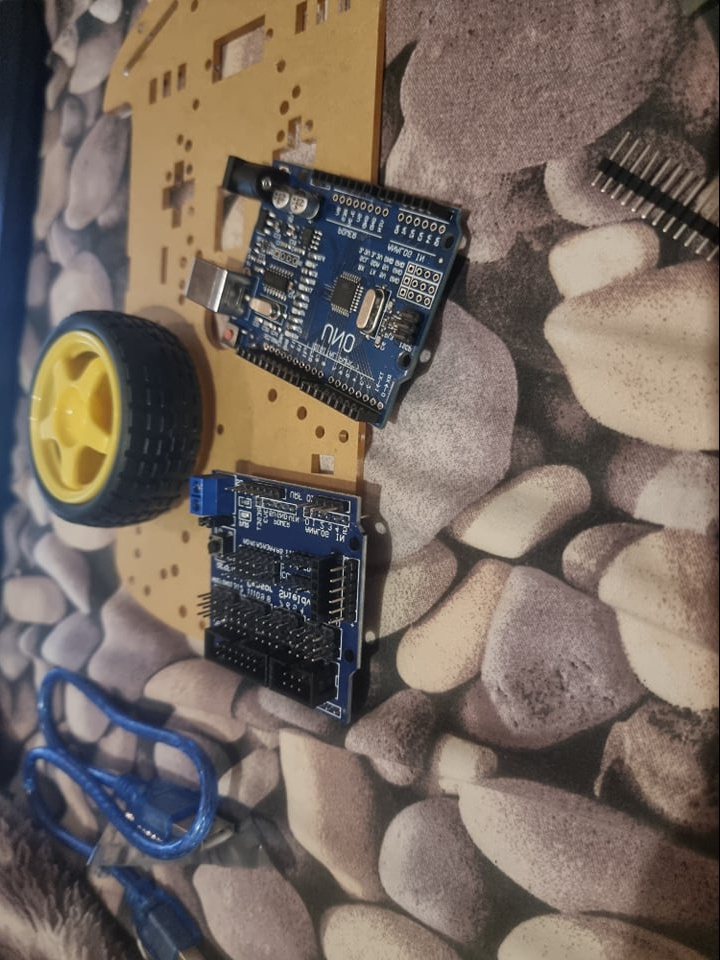5V EXPANSION: (187, 471, 366, 722)
UNO R3: (187, 152, 469, 428)
